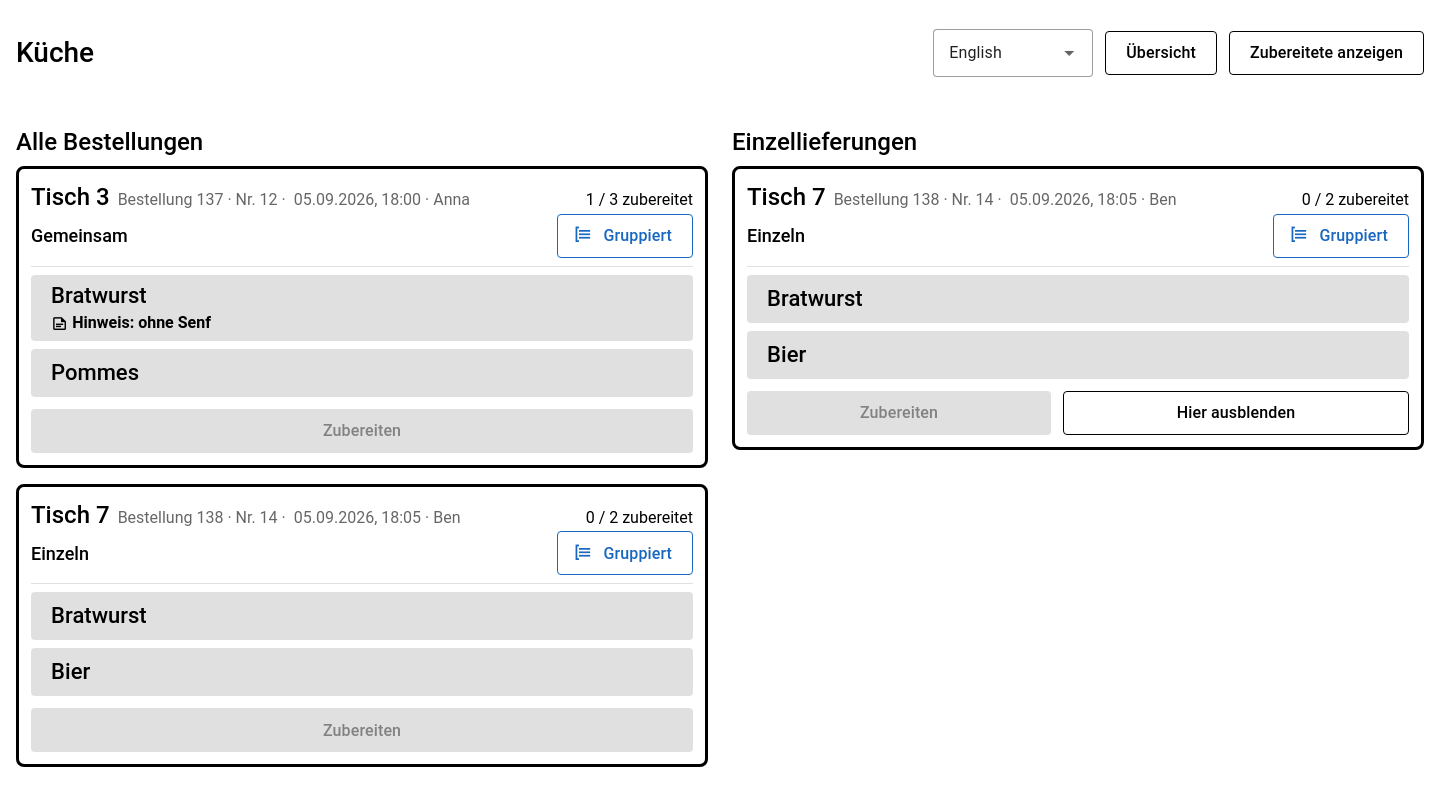
Test: marking selected items as done from a card › keeps the selection when the employee backs out of the question
Click the button "Bratwurst Hinweis: ohne Senf" at point(362, 308), box x1=31 y1=275 x2=693 y2=341
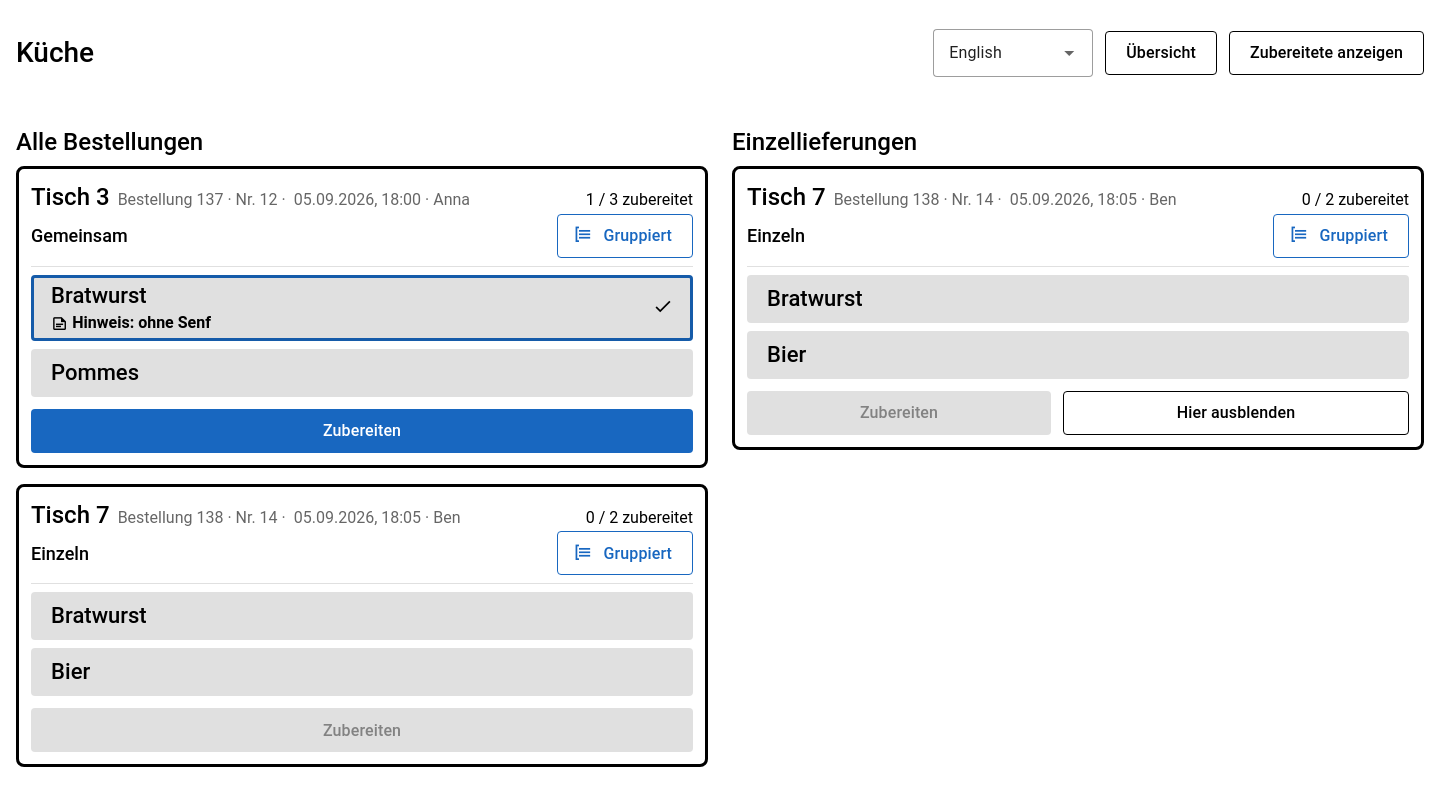
Click the button "Zubereiten" below "Gemeinsam" at point(362, 431), box x1=31 y1=409 x2=693 y2=453
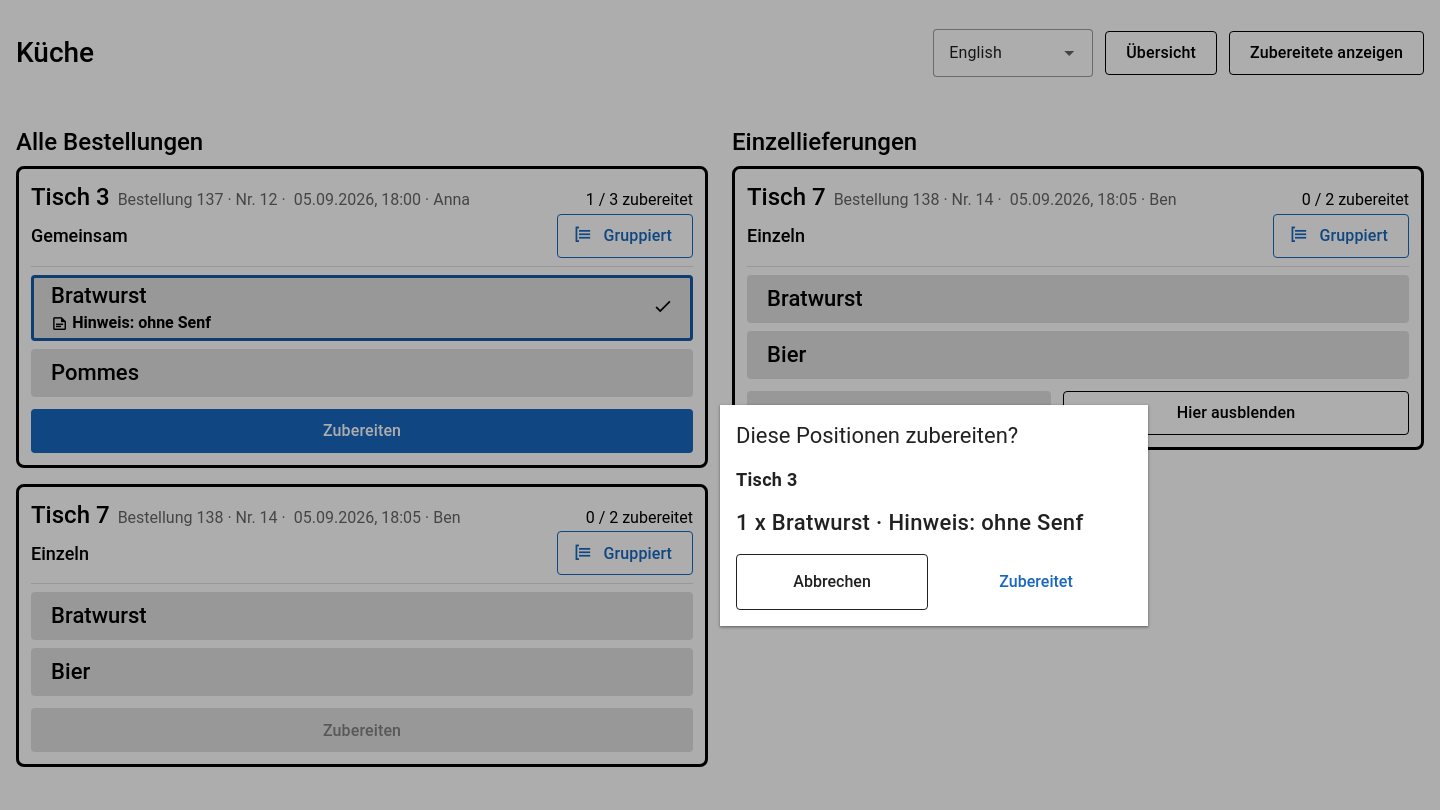
Click the button with test id "cancel" at point(832, 582), box x1=736 y1=554 x2=928 y2=610
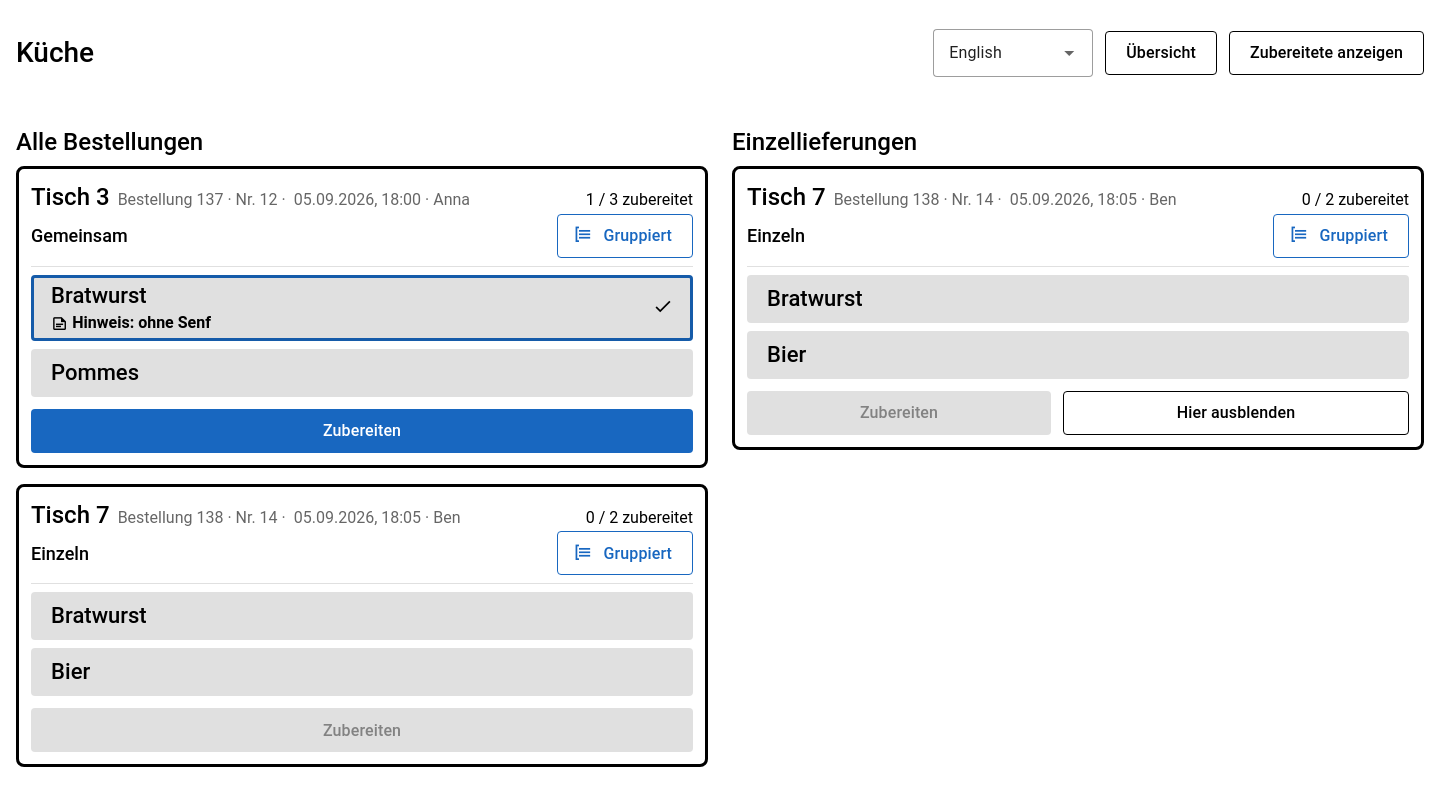
expect the dialog with test id "station-done-dialog" is gone: met
